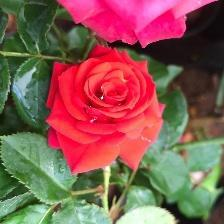rose: (47, 43, 165, 178)
